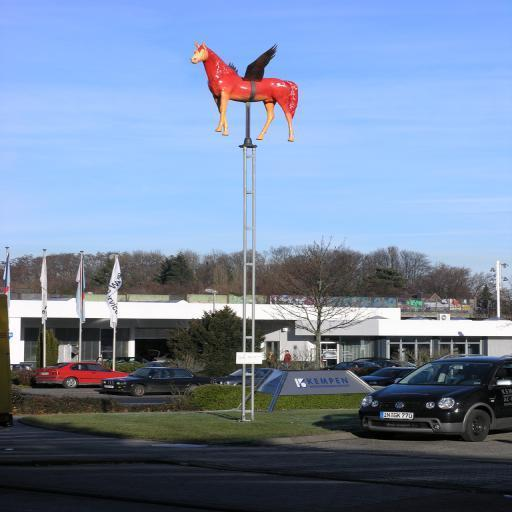horse: (192, 42, 296, 144)
